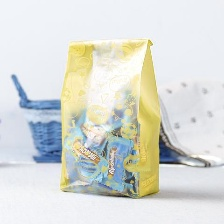snack: (52, 31, 167, 204)
